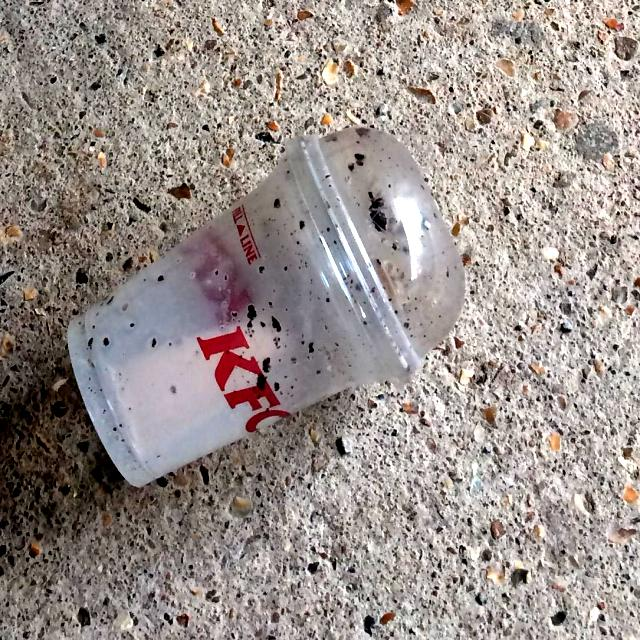Trash: (53, 120, 469, 509)
